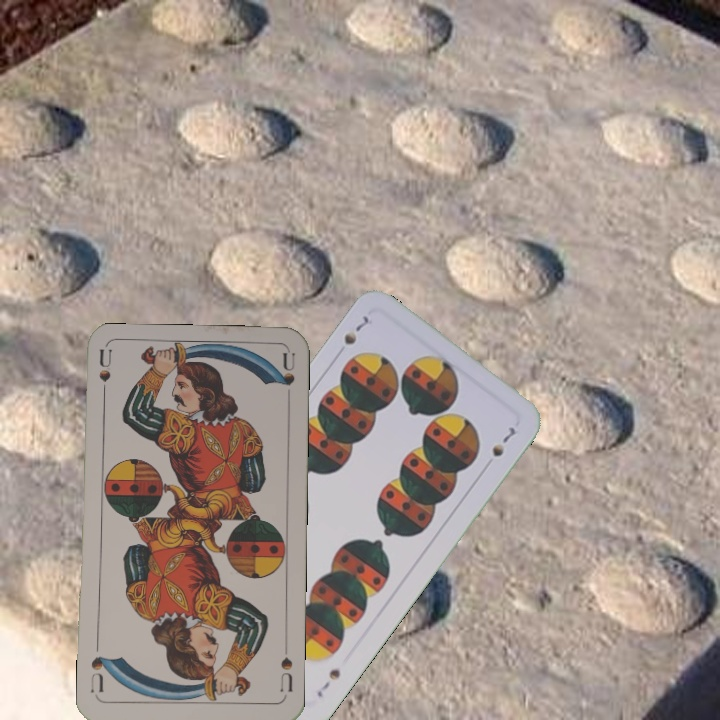S7: (340, 311, 372, 348), (312, 665, 343, 700)
SU: (95, 348, 114, 407), (276, 653, 295, 700)
